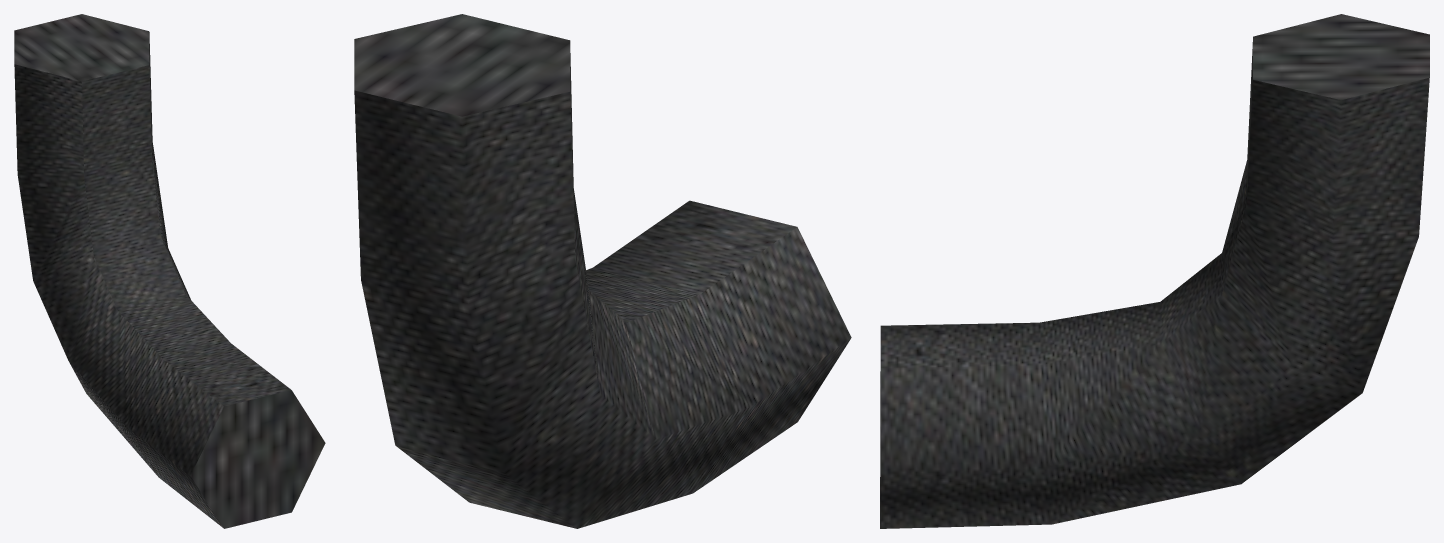
File: Wire_B.FBX
3 renders of one model, left to right at view 1: azimuth 30°, elevation 25°; view 2: azimuth 150°, elevation 25°; view 3: azimuth 270°, elevation 25°, orthographic. The views are drawn at different scales.
Parts seen in each view (by area): view 1: Wire_B; view 2: Wire_B; view 3: Wire_B.
Part boxes in pixels (x1,y1,x2,y2): Wire_B: (14, 14, 325, 528); Wire_B: (354, 14, 851, 528); Wire_B: (880, 14, 1429, 528).
Size of the model in its own units: 2 by 5.39 by 4.88.
Materials: 1 (1 with a texture image).
